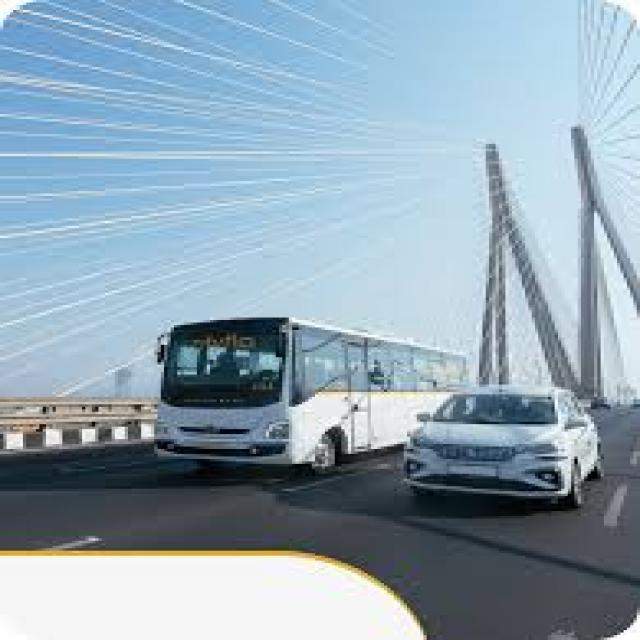Bus: (157, 300, 459, 458)
